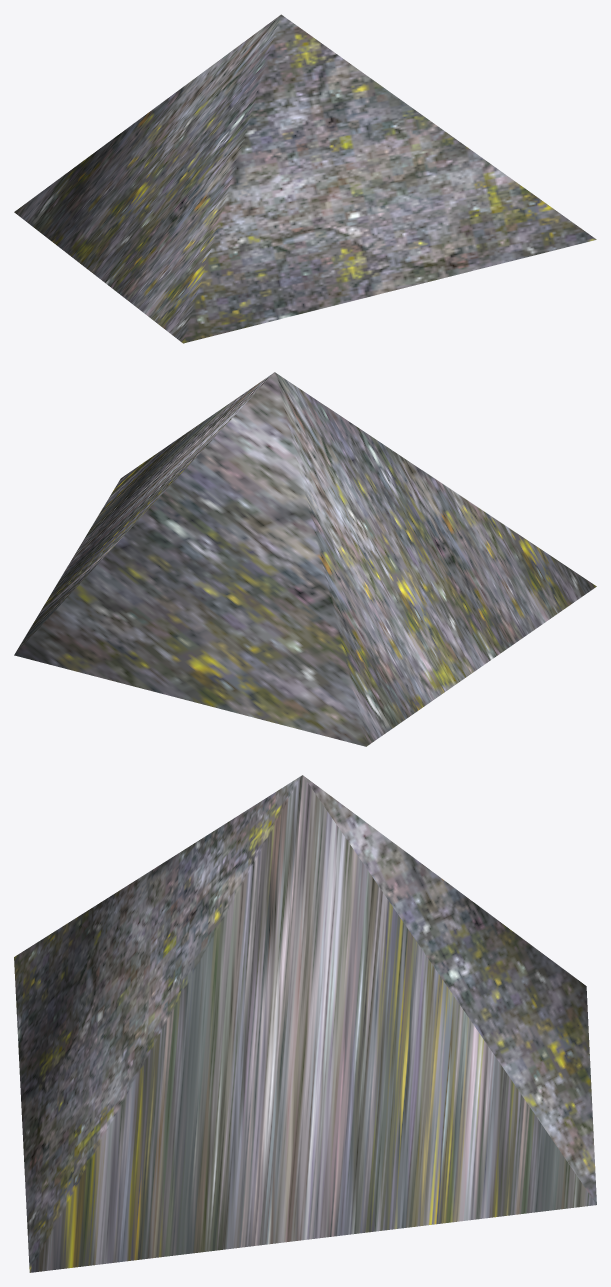
Rendered from rock_weatheredmossy_medium_a4_l3.fbx.
3 renders of one model, top to bottom at view 1: azimuth 30°, elevation 25°; view 2: azimuth 150°, elevation 25°; view 3: azimuth 270°, elevation 25°, orthographic. The views are drawn at different scales.
Visible parts, largest first — view 1: mesh_node; view 2: mesh_node; view 3: mesh_node.
Boxes of the visible parts, x1,y1,x2,y2 form: mesh_node: [14, 14, 596, 343]; mesh_node: [14, 372, 596, 746]; mesh_node: [14, 775, 596, 1272].
Bounding box in the file's own units: 0.5512 × 0.2806 × 0.4346.
Materials: 1 (1 with a texture image).
